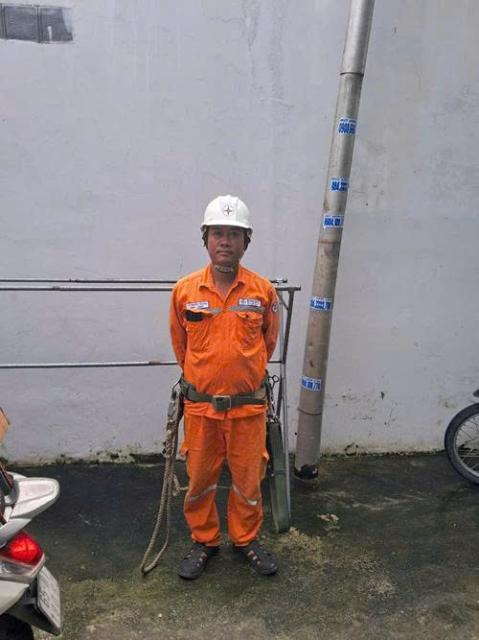harness: (176, 378, 283, 422)
helmet: (182, 184, 271, 237)
shoes: (172, 523, 222, 588), (231, 536, 289, 583)
